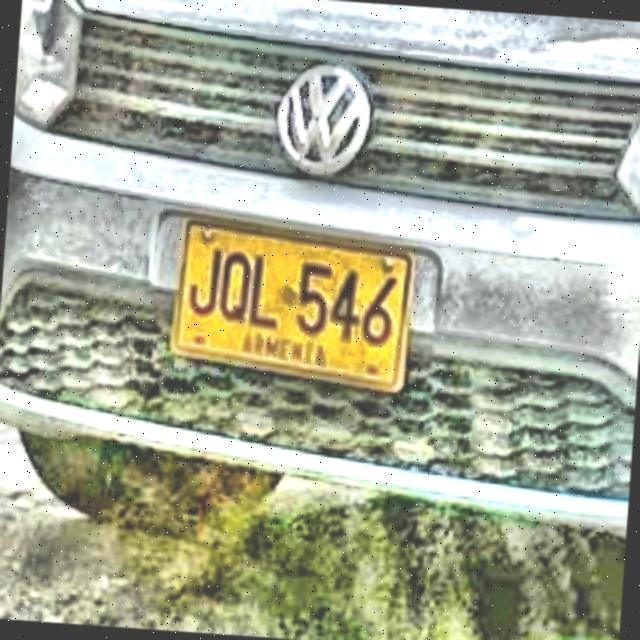4: (326, 266, 364, 342)
5: (294, 259, 333, 339)
6: (359, 274, 400, 348)
J: (186, 245, 223, 318)
L: (247, 252, 285, 332)
Q: (217, 248, 251, 322)
